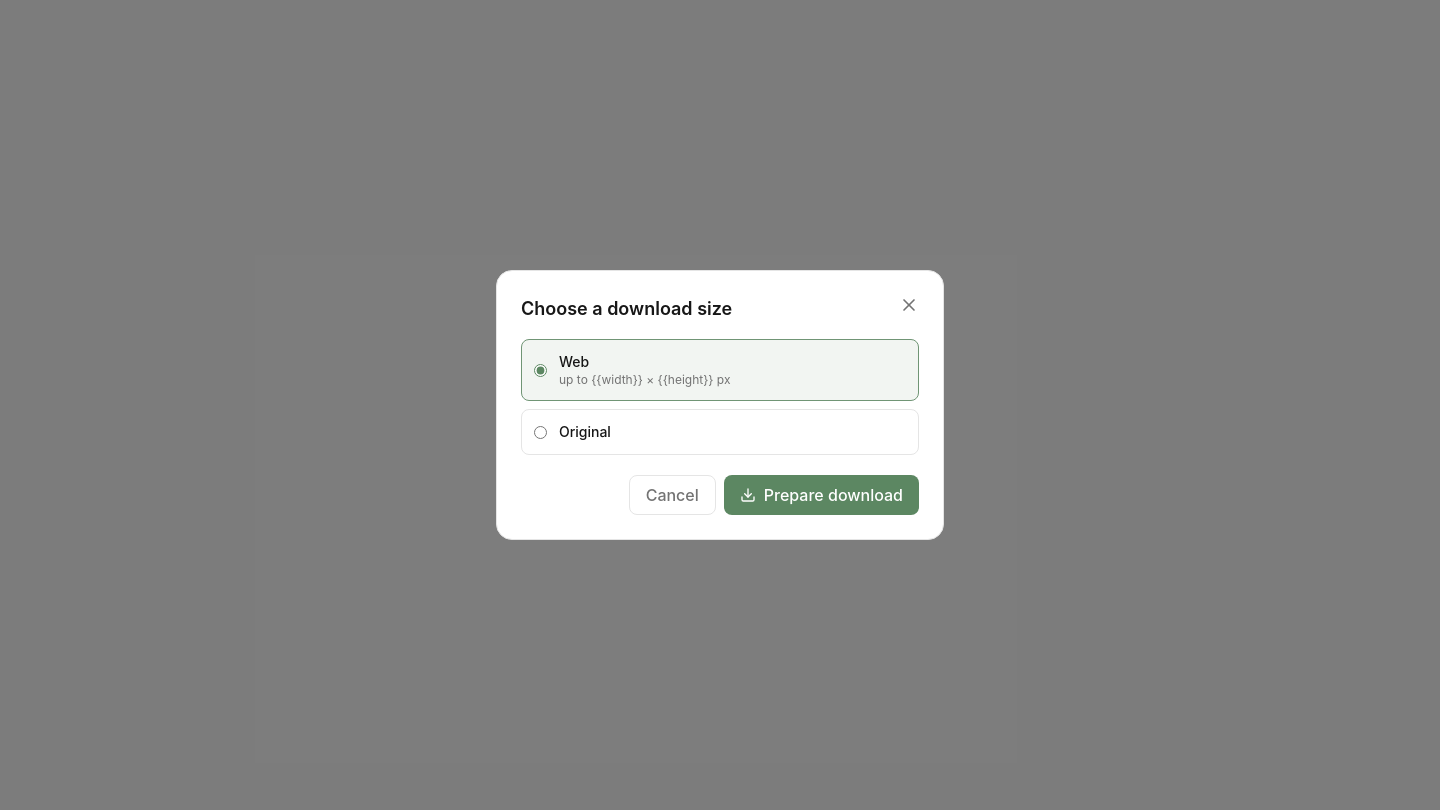
Test: DownloadResolutionModal: re-reading the allowance › charges nothing before the download is actually taken
Click the button "Prepare download" at (821,495), box [724,475,919,515]
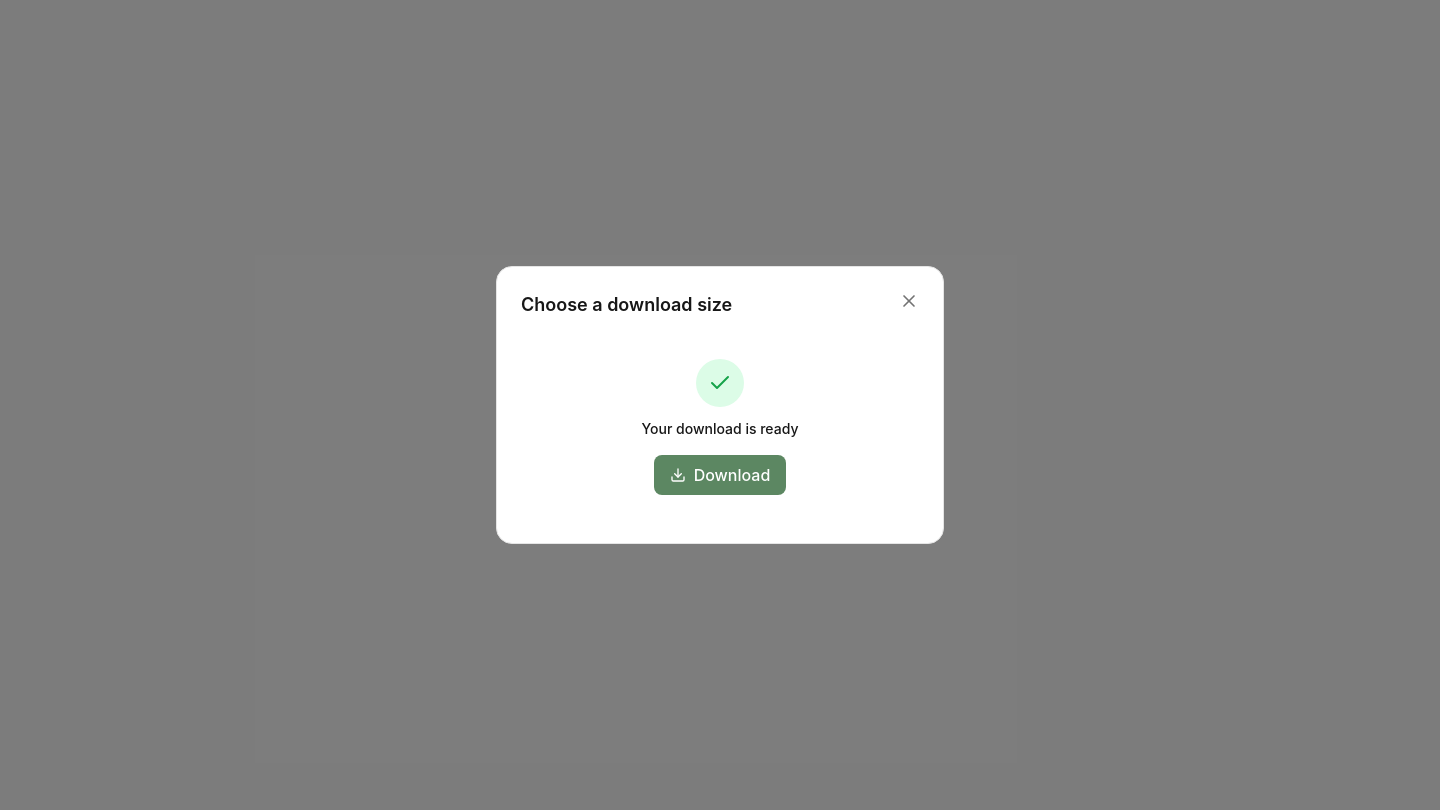
Now the button "Download" is shown, box [654,455,786,495]
